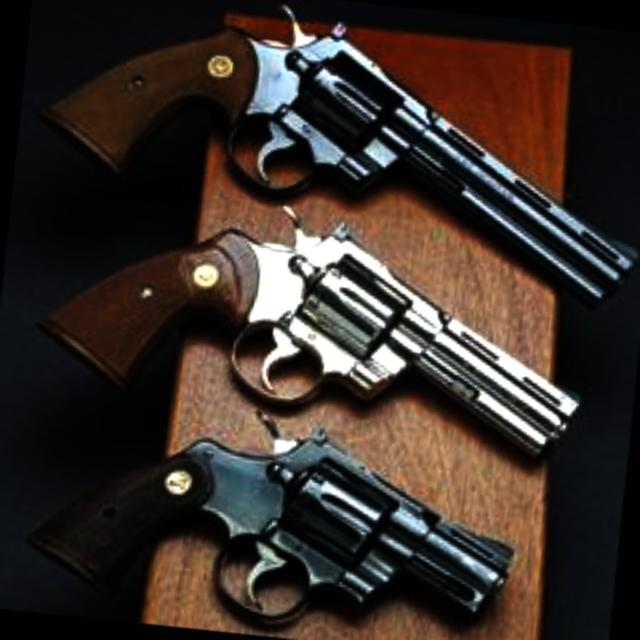revolver: (0, 390, 604, 640)
